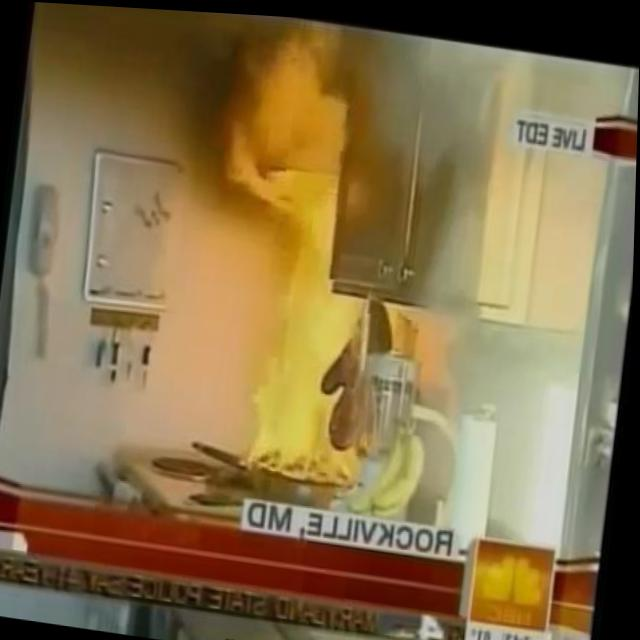fire: (191, 9, 428, 484)
